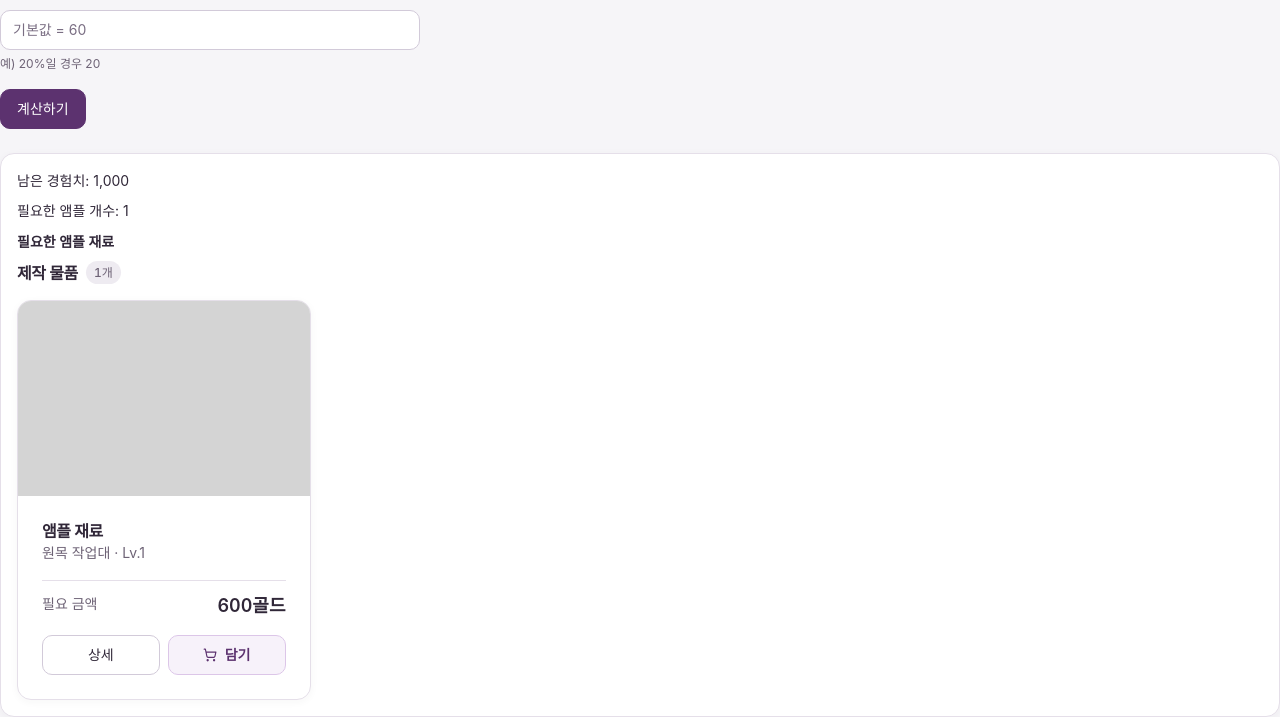
it: WalnutPage › 계산이 끝난 결과는 앰플 재료의 담기를 눌러 장바구니에 담는다
(page scrolled)
What coordinates should you click on to do the following:
click the button with aria-label "앰플 재료 담기"
I would click on:
 (227, 654)
Its box is [168,634,286,674].
(page scrolled)
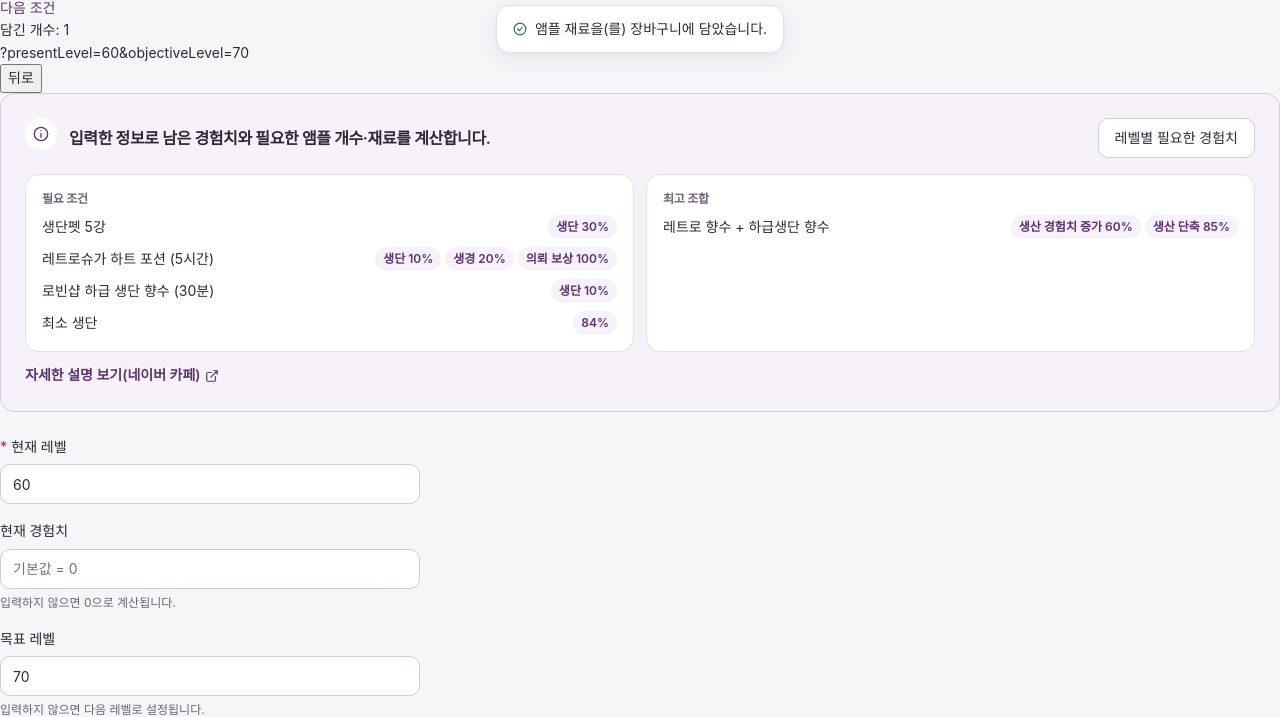
expect the text "담긴 개수: 1" is shown: met, box [0,21,69,38]
